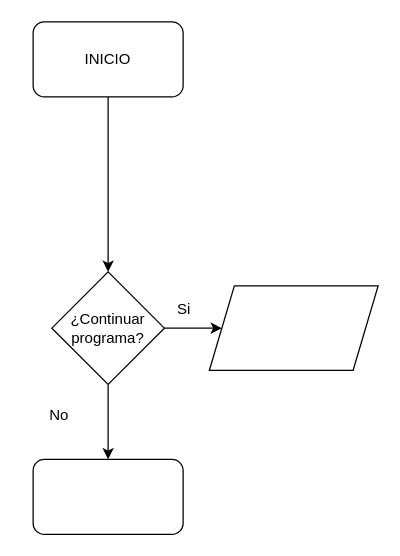
This 400x556 diagram has some shape labels left out. The shapes that lost their labels are listed below. From the top down, each one's centre as x and y in pixels, then its label:
At point (293, 327): "Continuar en modulo menuOpciones".
At point (107, 496): "Fin".
